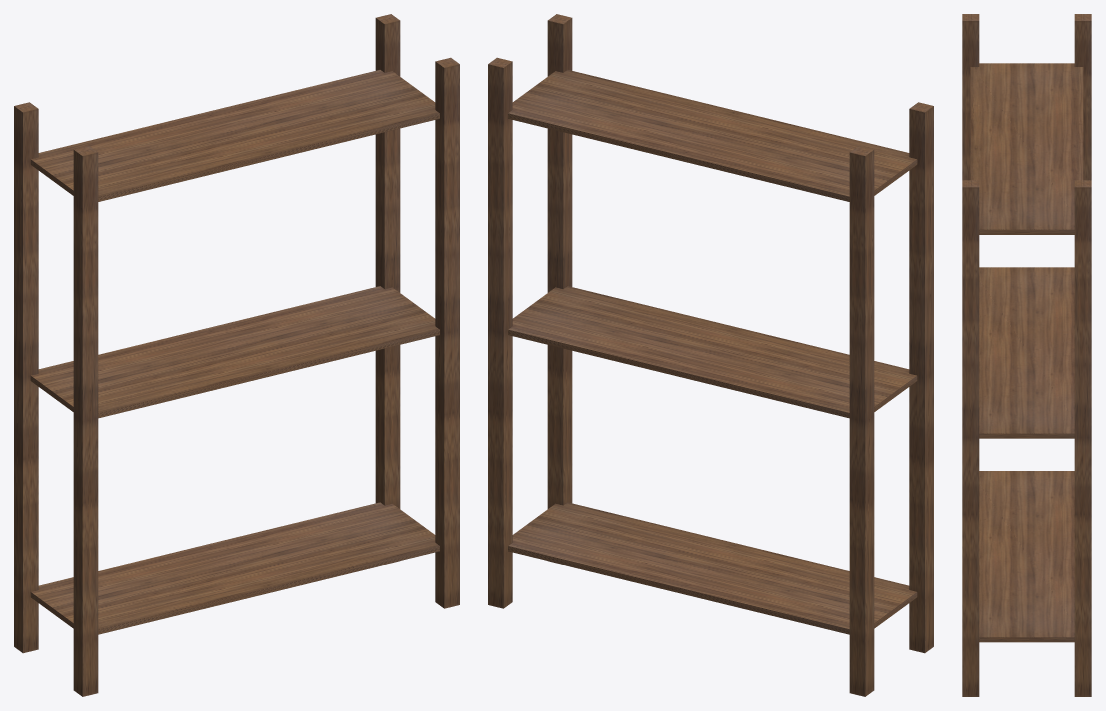
The model's file is RegalmitTexture.fbx.
3 renders of one model, left to right at view 1: azimuth 30°, elevation 25°; view 2: azimuth 150°, elevation 25°; view 3: azimuth 270°, elevation 25°, orthographic. The views are drawn at different scales.
Visible parts, largest first — view 1: Box007, Box002, Box006, Box003, Box005, Box001, Box004; view 2: Box007, Box002, Box006, Box001, Box004, Box003, Box005; view 3: Box007, Box002, Box006, Box004, Box005, Box001, Box003.
Part boxes in pixels (x1,y1,x2,y2): Box007: [30, 70, 439, 201]; Box002: [30, 502, 439, 634]; Box006: [30, 286, 439, 418]; Box003: [73, 146, 98, 696]; Box005: [435, 57, 459, 608]; Box001: [14, 102, 38, 653]; Box004: [375, 14, 400, 564]; Box007: [508, 70, 917, 201]; Box002: [508, 502, 917, 634]; Box006: [508, 286, 917, 418]; Box001: [849, 146, 874, 696]; Box004: [488, 57, 512, 608]; Box003: [909, 102, 933, 653]; Box005: [547, 14, 572, 564]; Box007: [970, 63, 1083, 234]; Box002: [979, 471, 1074, 642]; Box006: [979, 267, 1074, 438]; Box004: [1074, 180, 1091, 696]; Box005: [962, 180, 979, 696]; Box001: [1074, 14, 1091, 180]; Box003: [962, 14, 979, 180].
Size of the model in its own units: 73 by 100 by 23.
Materials: 1 (1 with a texture image).
